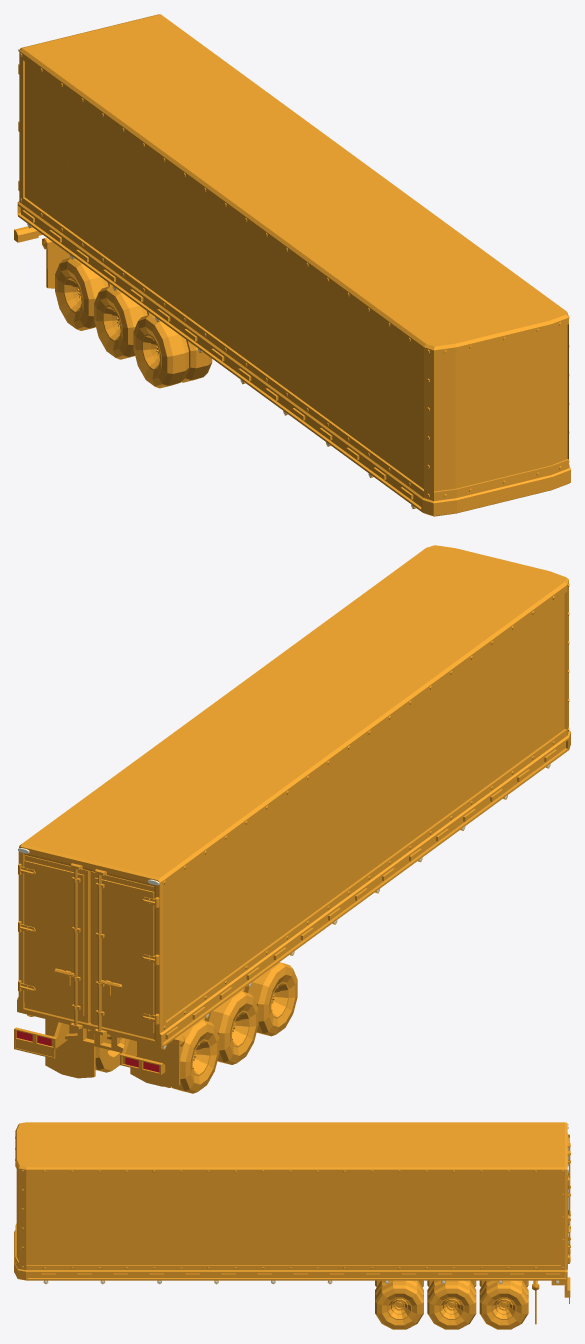
File: SM_Car_Truck_Trailer_Modern.fbx
The picture shows the model from 3 angles, top to bottom: view 1: azimuth 30°, elevation 25°; view 2: azimuth 150°, elevation 25°; view 3: azimuth 270°, elevation 25°; orthographic projection. The views are drawn at different scales.
Visible parts, largest first — view 1: SM_Car_Truck_Trailer_Modern_Base, SM_Car_Truck_Trailer_Modern_Wheel_RB1, SM_Car_Truck_Trailer_Modern_Wheel_RB2, SM_Car_Truck_Trailer_Modern_Wheel_RB3; view 2: SM_Car_Truck_Trailer_Modern_Base, SM_Car_Truck_Trailer_Modern_Door_L, SM_Car_Truck_Trailer_Modern_Door_R, SM_Car_Truck_Trailer_Modern_Wheel_RB1, SM_Car_Truck_Trailer_Modern_Wheel_RB2, SM_Car_Truck_Trailer_Modern_Wheel_RB3; view 3: SM_Car_Truck_Trailer_Modern_Base, SM_Car_Truck_Trailer_Modern_Wheel_LB2, SM_Car_Truck_Trailer_Modern_Wheel_LB3, SM_Car_Truck_Trailer_Modern_wheel_LB1, SM_Car_Truck_Trailer_Modern_Door_L.
Boxes of the visible parts, left/top/right/bottom form: SM_Car_Truck_Trailer_Modern_Base: left=14, top=14, right=570, bottom=516; SM_Car_Truck_Trailer_Modern_Wheel_RB1: left=133, top=314, right=212, bottom=388; SM_Car_Truck_Trailer_Modern_Wheel_RB2: left=94, top=285, right=150, bottom=359; SM_Car_Truck_Trailer_Modern_Wheel_RB3: left=55, top=257, right=111, bottom=330; SM_Car_Truck_Trailer_Modern_Base: left=14, top=545, right=570, bottom=1086; SM_Car_Truck_Trailer_Modern_Door_L: left=20, top=855, right=90, bottom=1025; SM_Car_Truck_Trailer_Modern_Door_R: left=90, top=871, right=154, bottom=1039; SM_Car_Truck_Trailer_Modern_Wheel_RB1: left=240, top=962, right=297, bottom=1036; SM_Car_Truck_Trailer_Modern_Wheel_RB2: left=201, top=991, right=258, bottom=1064; SM_Car_Truck_Trailer_Modern_Wheel_RB3: left=164, top=1019, right=219, bottom=1093; SM_Car_Truck_Trailer_Modern_Base: left=14, top=1122, right=570, bottom=1324; SM_Car_Truck_Trailer_Modern_Wheel_LB2: left=427, top=1280, right=476, bottom=1329; SM_Car_Truck_Trailer_Modern_Wheel_LB3: left=479, top=1280, right=528, bottom=1329; SM_Car_Truck_Trailer_Modern_wheel_LB1: left=375, top=1280, right=423, bottom=1329; SM_Car_Truck_Trailer_Modern_Door_L: left=567, top=1155, right=570, bottom=1268.
Size of the model in its own units: 2.49 by 4 by 12.23.
